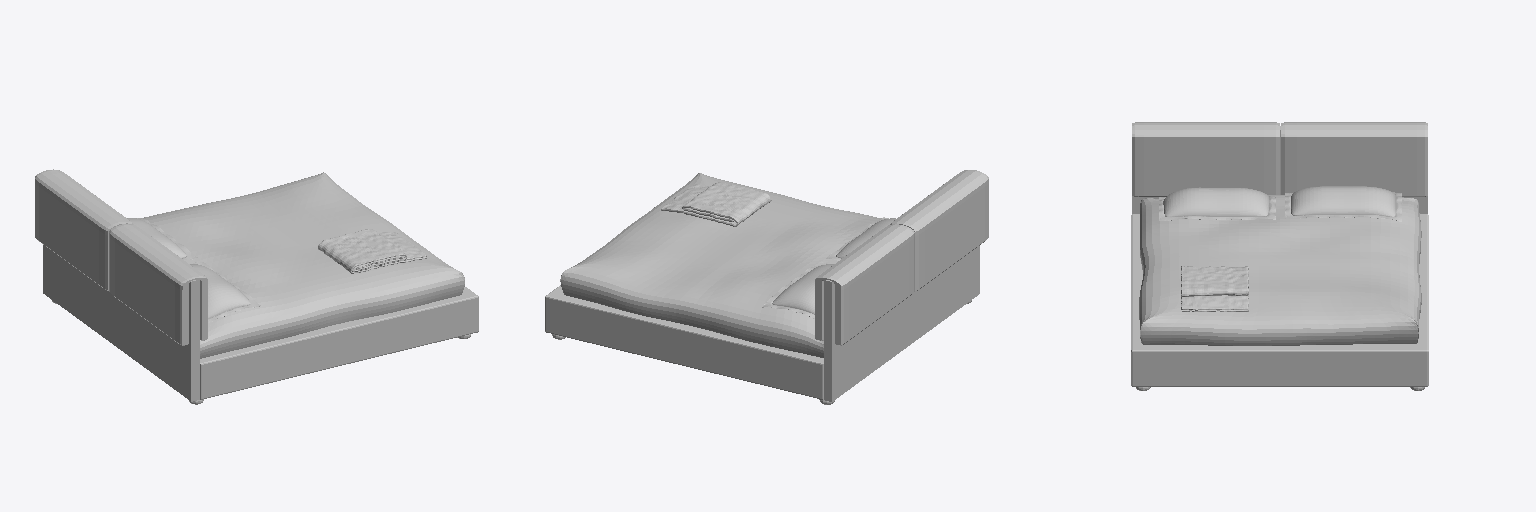
Rendered from Bed vivien DLS N180220.obj.
3 views of the same model, side by side, from view 1: azimuth 30°, elevation 25°; view 2: azimuth 150°, elevation 25°; view 3: azimuth 270°, elevation 25° (orthographic).
Parts seen in each view (by area): view 1: Arch37_048_obj_1, Box001, Box002, Box004, Box003, Arch37_048_obj_4, Arch37_048_obj_6, Arch37_048_obj_5; view 2: Arch37_048_obj_1, Box001, Box002, Box003, Box004, Arch37_048_obj_4, Arch37_048_obj_5, Arch37_048_obj_6; view 3: Arch37_048_obj_1, Box001, Box004, Box003, Arch37_048_obj_5, Arch37_048_obj_6, Arch37_048_obj_4.
Part boxes in pixels (x1,y1,x2,y2): Arch37_048_obj_1: (143,172,464,358); Box001: (200,287,478,399); Box002: (43,245,199,401); Box004: (109,224,207,345); Box003: (35,169,133,290); Arch37_048_obj_4: (318,229,426,273); Arch37_048_obj_6: (190,262,260,322); Arch37_048_obj_5: (127,218,197,259); Arch37_048_obj_1: (560,173,881,357); Box001: (545,285,823,399); Box002: (824,246,979,401); Box003: (815,224,914,345); Box004: (890,170,988,290); Arch37_048_obj_4: (661,182,771,226); Arch37_048_obj_5: (762,261,833,318); Arch37_048_obj_6: (826,217,895,260); Arch37_048_obj_1: (1139,195,1421,345); Box001: (1131,214,1428,386); Box004: (1132,122,1279,197); Box003: (1281,122,1427,196); Arch37_048_obj_5: (1285,186,1401,221); Arch37_048_obj_6: (1159,187,1275,220); Arch37_048_obj_4: (1181,266,1248,311).
Bounding box in the file's own units: 87.29 × 36.39 × 75.59.